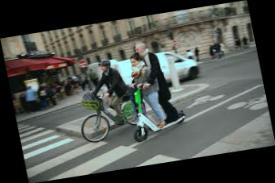multiple: (113, 36, 192, 145)
